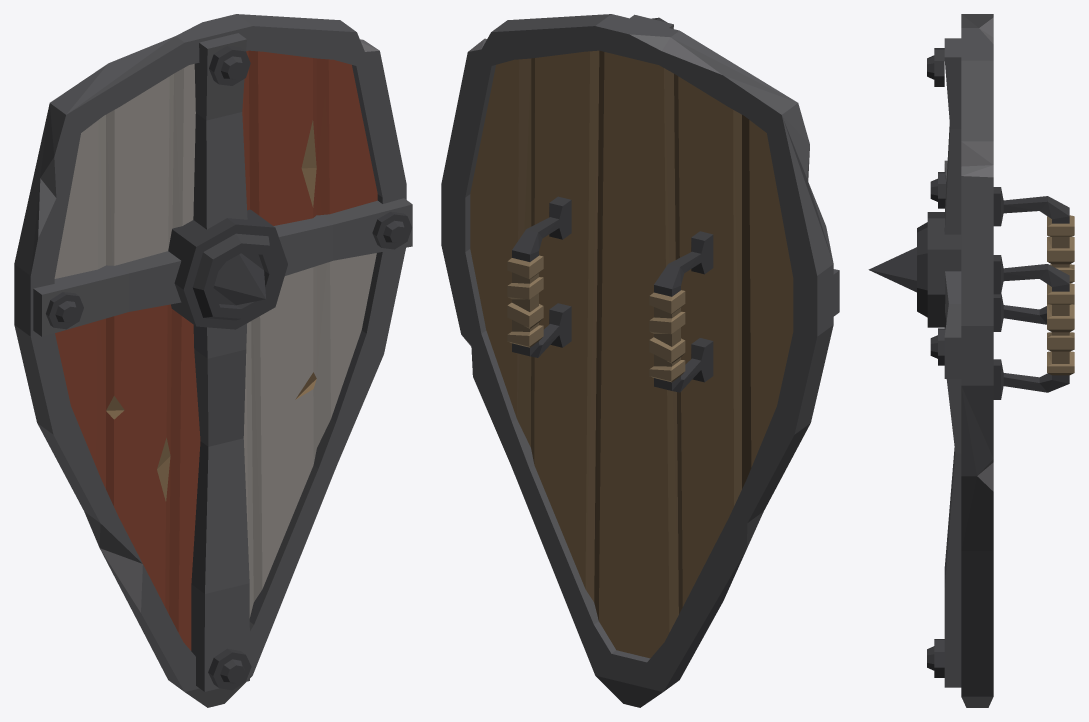
The model's file is SM_Wep_Sheild_01.gltf.
3 renders of one model, left to right at view 1: azimuth 30°, elevation 25°; view 2: azimuth 150°, elevation 25°; view 3: azimuth 270°, elevation 25°, orthographic. The views are drawn at different scales.
Visible parts, largest first — view 1: SM_Wep_Sheild_01; view 2: SM_Wep_Sheild_01; view 3: SM_Wep_Sheild_01.
Part boxes in pixels (x1,y1,x2,y2): SM_Wep_Sheild_01: (14, 14, 412, 707); SM_Wep_Sheild_01: (441, 14, 839, 707); SM_Wep_Sheild_01: (868, 14, 1074, 707).
Bounding box in the file's own units: 0.4936 × 0.845 × 0.2396.
1 material, 1 textured.
